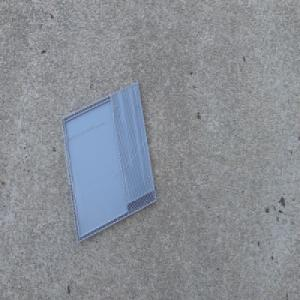PlasticPart: (60, 80, 158, 244)
